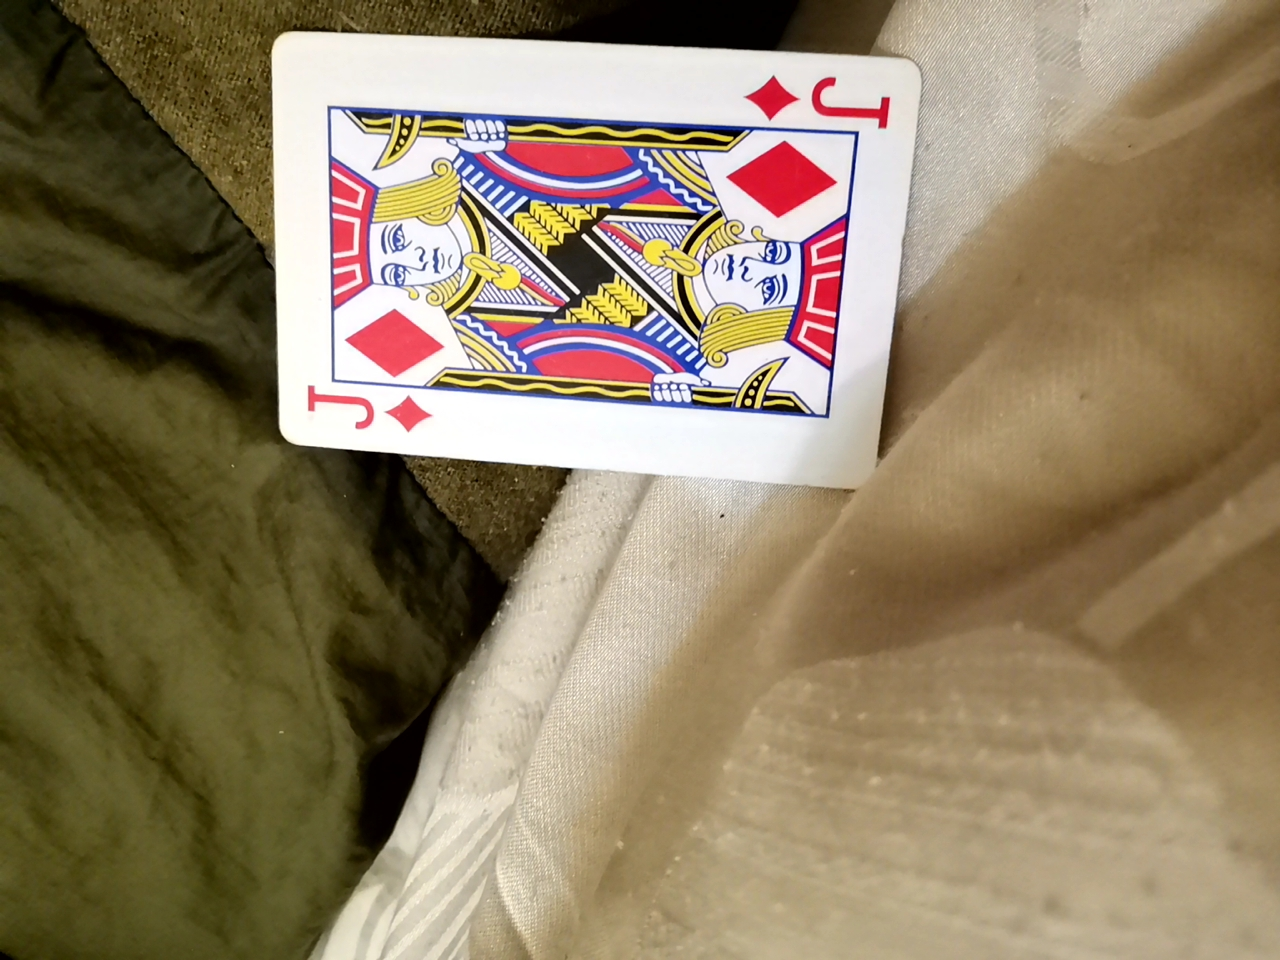fk j: (274, 26, 901, 488)
